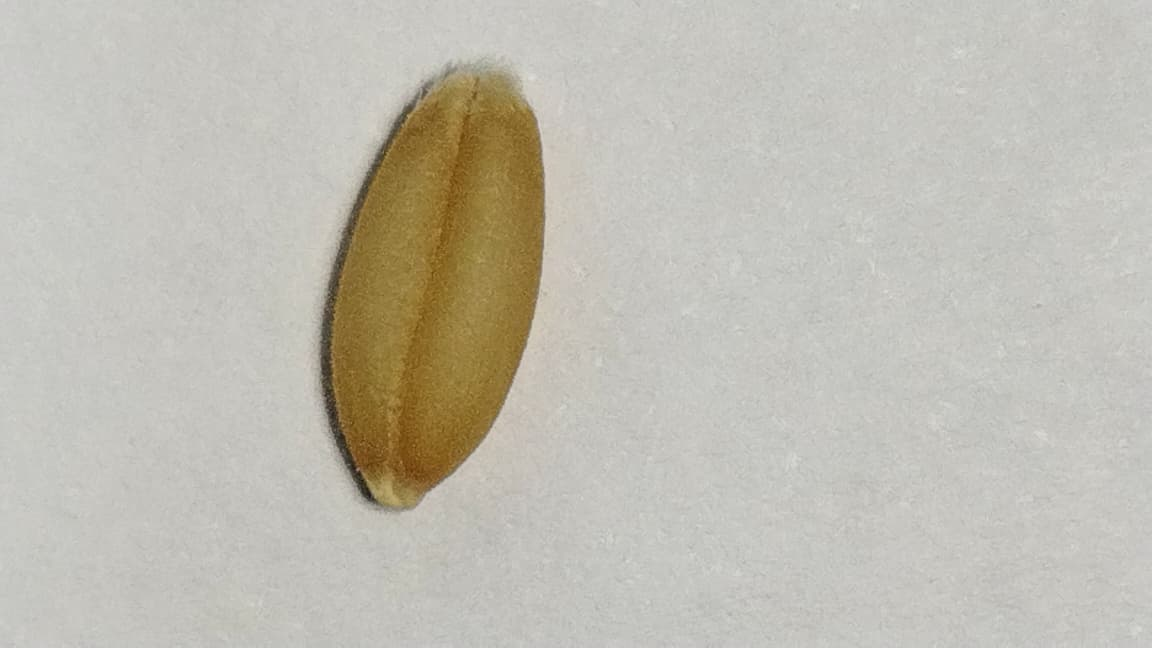healthy: (325, 76, 543, 507)
